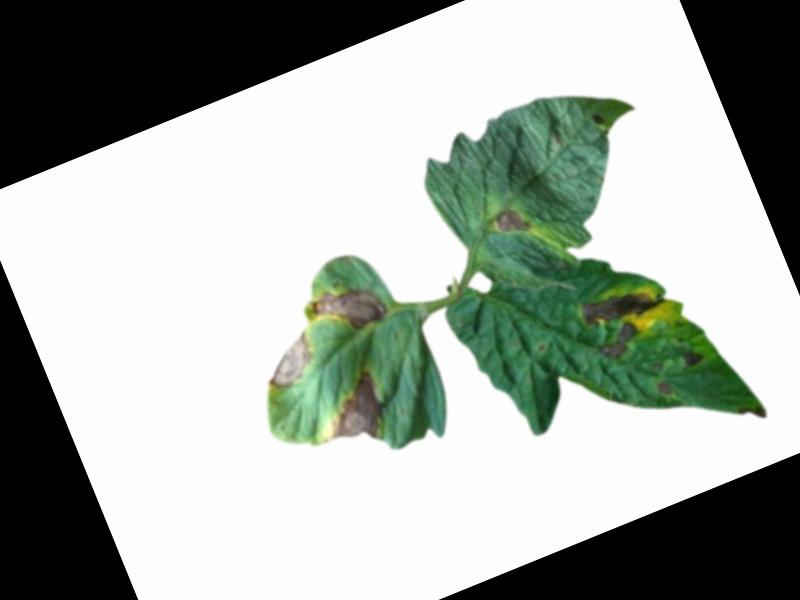Early_blight: (573, 274, 680, 368), (313, 368, 394, 454), (307, 273, 391, 348), (251, 328, 322, 397), (489, 203, 531, 242), (681, 346, 705, 370), (588, 109, 607, 130), (655, 379, 674, 400)
